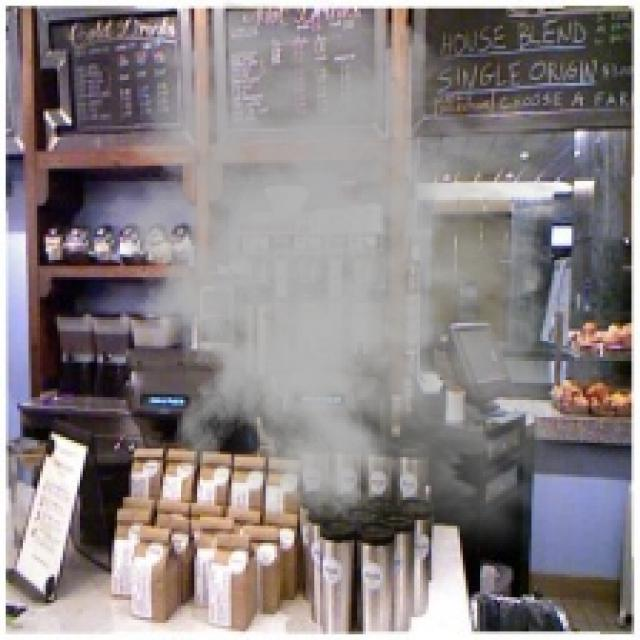smoke: (86, 0, 628, 569)
